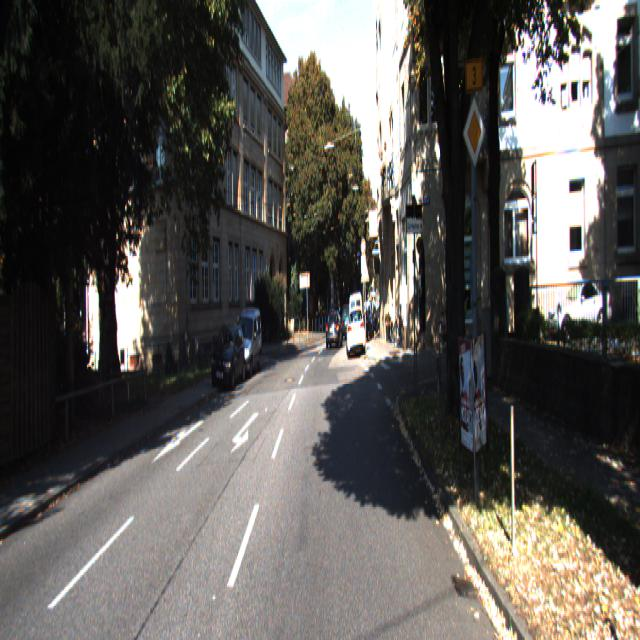Car: (546, 273, 609, 338), (208, 322, 247, 395), (231, 304, 263, 380), (346, 304, 366, 360), (348, 290, 366, 352), (325, 309, 344, 350)
